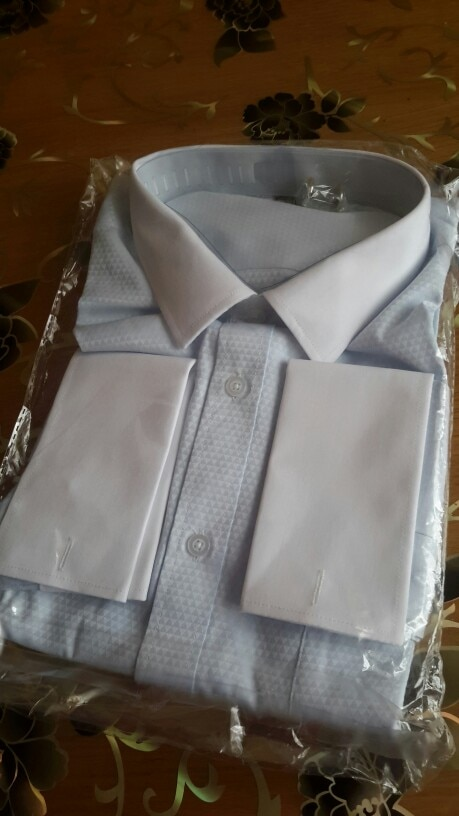shirts: (48, 160, 459, 704)
